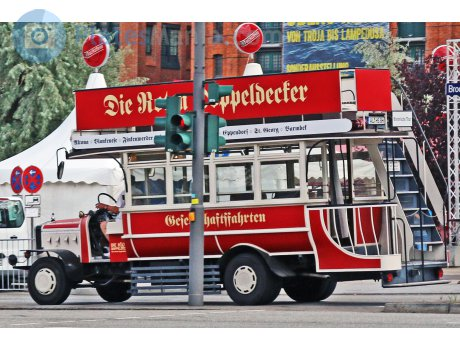License Plates: (367, 112, 386, 123)
